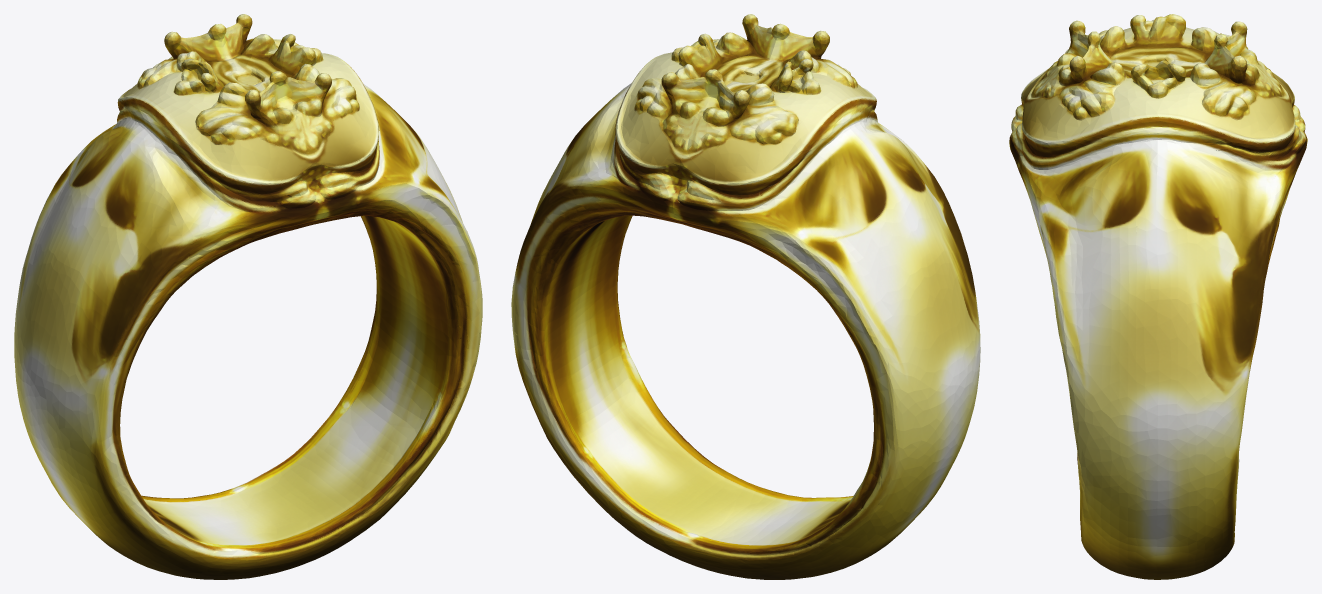
Rendered from ring.glb.
3 renders of one model, left to right at view 1: azimuth 30°, elevation 25°; view 2: azimuth 150°, elevation 25°; view 3: azimuth 270°, elevation 25°, orthographic.
Visible parts, largest first — view 1: world; view 2: world; view 3: world.
Boxes of the visible parts, x1=… form: world: x1=14, y1=14, x2=482, y2=579; world: x1=511, y1=14, x2=980, y2=579; world: x1=1009, y1=14, x2=1307, y2=579.
Size of the model in its own units: 0.8635 by 0.9997 by 0.5189.
Materials: 1 (1 with a texture image).
